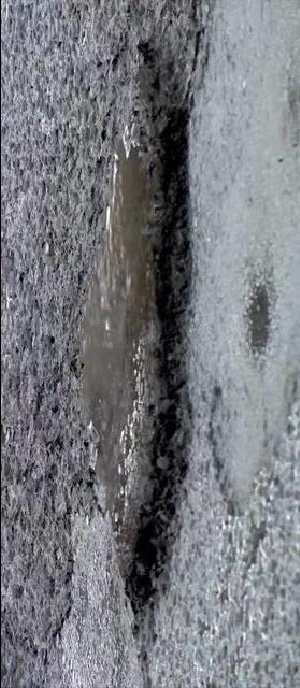pothole: (71, 32, 199, 643), (244, 274, 280, 361)
